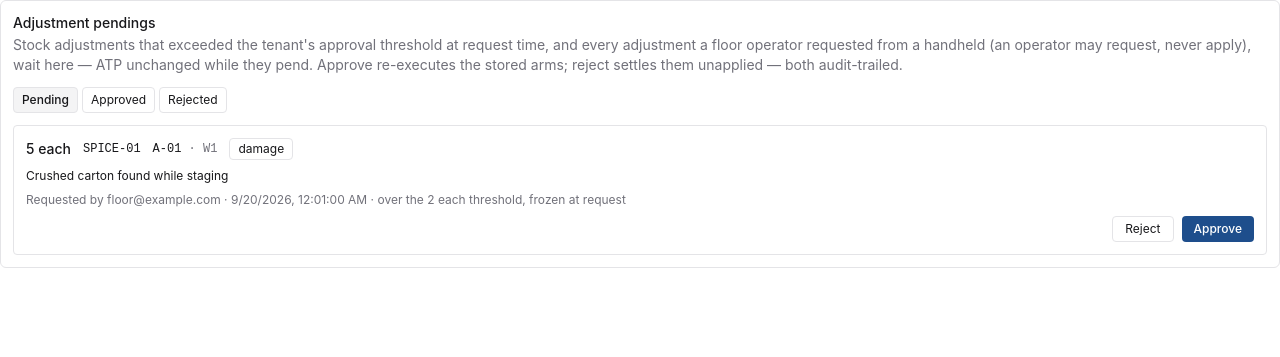
it: AdjustmentPendingsQueue: the decide flow (story 5-5) › the approve POST carries a fresh Idempotency-Key and no body, then re-reads
Click the button "Approve" at (1218, 229), box [1182, 216, 1254, 242]
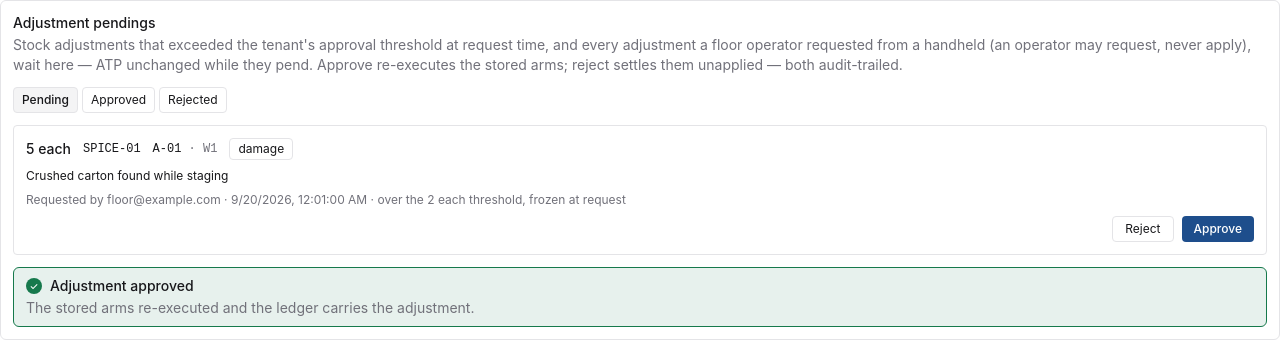
Now the text "Adjustment approved" is shown, box [50, 277, 194, 294]
